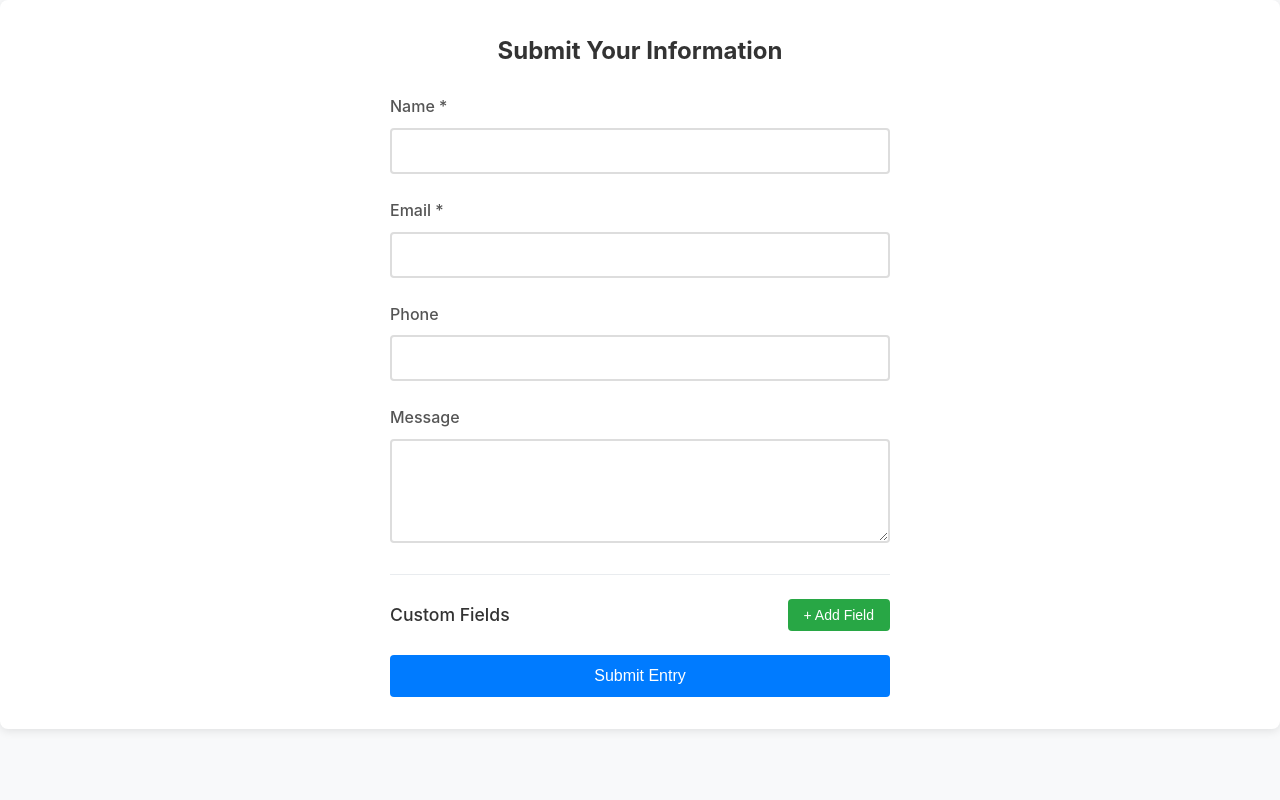
Test case: EntryForm › shows validation errors for required fields
Click the button "Submit Entry" at (640, 676), box [390, 655, 890, 697]
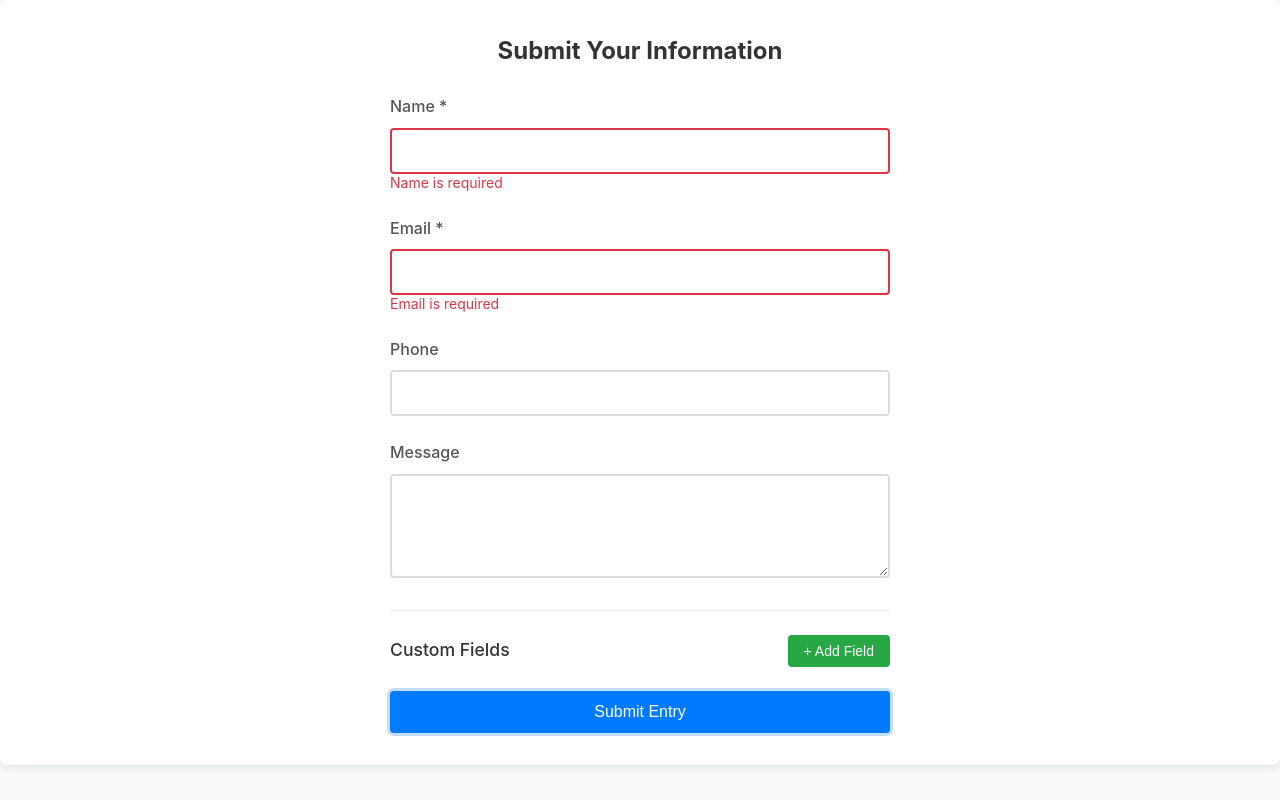
expect the text "Name is required" is shown: met, box [390, 174, 503, 191]
expect the text "Email is required" is shown: met, box [390, 295, 499, 312]
